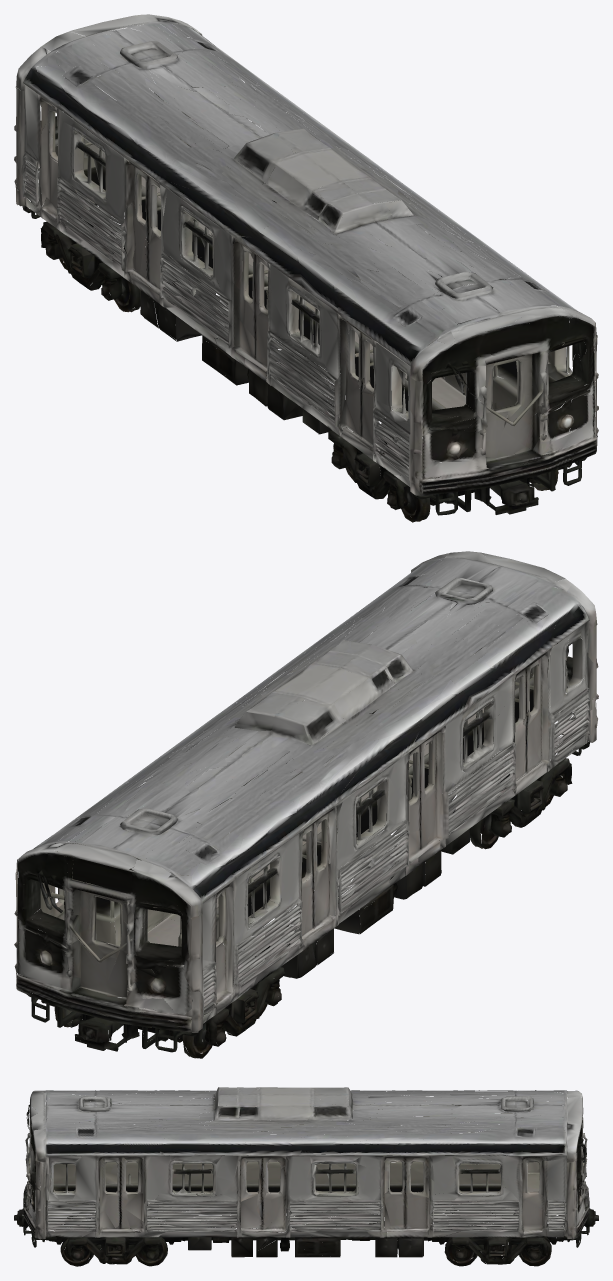
File: h_subway_car.glb
3 views of the same model, one above another, from view 1: azimuth 30°, elevation 25°; view 2: azimuth 150°, elevation 25°; view 3: azimuth 270°, elevation 25° (orthographic). The views are drawn at different scales.
Parts seen in each view (by area): view 1: tripo_node_850b30e2-8202-47f7-8c36-bddd7a689659; view 2: tripo_node_850b30e2-8202-47f7-8c36-bddd7a689659; view 3: tripo_node_850b30e2-8202-47f7-8c36-bddd7a689659.
Part boxes in pixels (x1,y1,x2,y2): tripo_node_850b30e2-8202-47f7-8c36-bddd7a689659: (14,14,598,522); tripo_node_850b30e2-8202-47f7-8c36-bddd7a689659: (14,551,598,1058); tripo_node_850b30e2-8202-47f7-8c36-bddd7a689659: (14,1087,598,1266).
Bounding box in the file's own units: 0.2421 × 0.2784 × 0.9842.
1 material, 1 textured.
